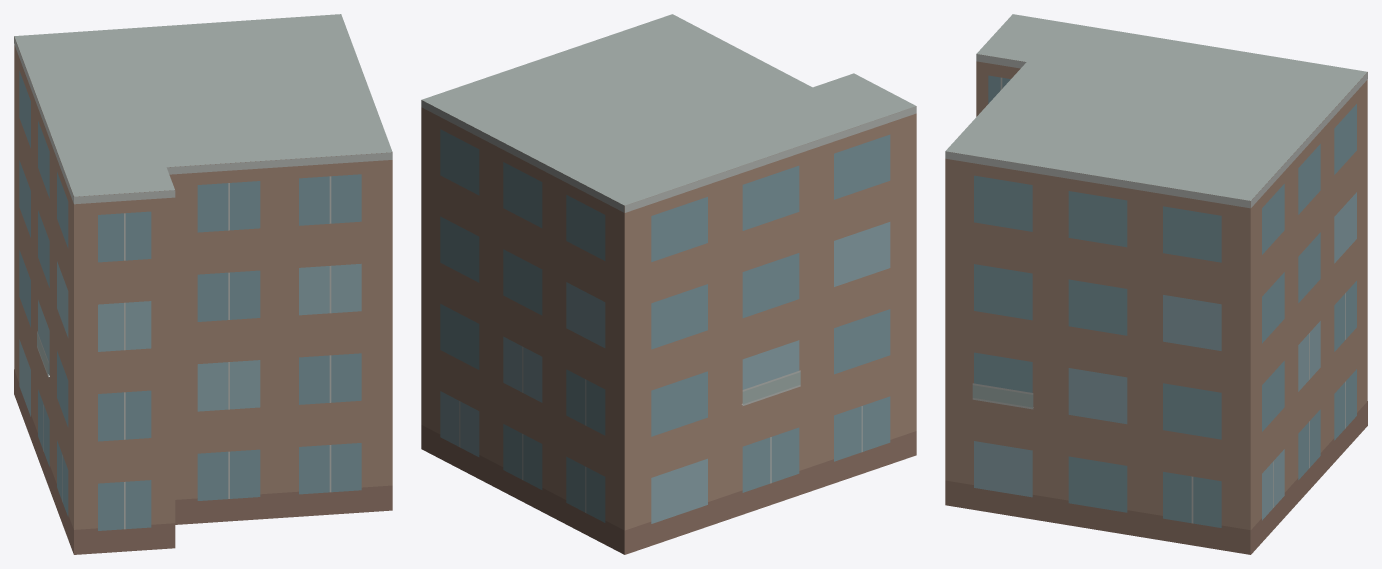
Rendered from survey-upis-32868498.glb.
The picture shows the model from 3 angles, left to right: view 1: azimuth 30°, elevation 25°; view 2: azimuth 150°, elevation 25°; view 3: azimuth 270°, elevation 25°; orthographic projection. The views are drawn at different scales.
Visible parts, largest first — view 1: survey-upis-32868498.tmp; view 2: survey-upis-32868498.tmp; view 3: survey-upis-32868498.tmp.
Boxes of the visible parts, box(x1,y1,x2,y2) form: survey-upis-32868498.tmp: box(14, 14, 392, 554); survey-upis-32868498.tmp: box(421, 14, 916, 554); survey-upis-32868498.tmp: box(945, 14, 1367, 554).
Bounding box in the file's own units: 13.15 × 11.6 × 12.56.
